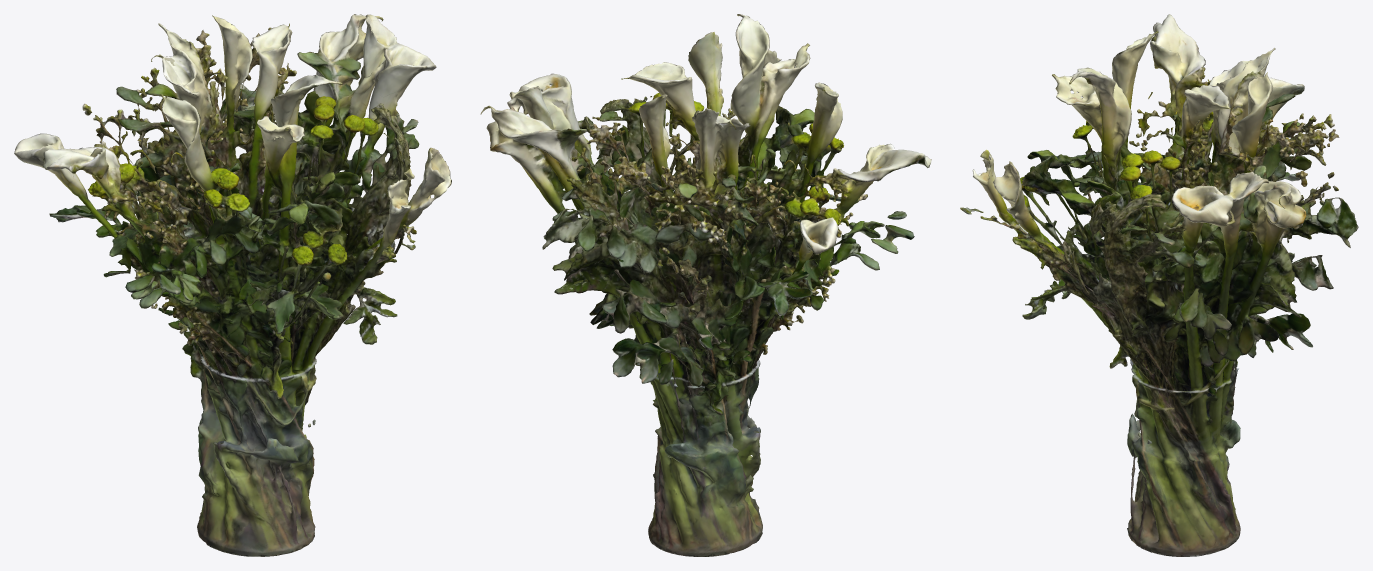
3 renders of one model, left to right at view 1: azimuth 30°, elevation 25°; view 2: azimuth 150°, elevation 25°; view 3: azimuth 270°, elevation 25°, orthographic. The views are drawn at different scales.
Parts seen in each view (by area): view 1: mmGroup0; view 2: mmGroup0; view 3: mmGroup0.
Boxes of the visible parts, <box> form: mmGroup0: <box>14,14,451,556</box>; mmGroup0: <box>480,14,931,556</box>; mmGroup0: <box>960,14,1358,556</box>.
Bounding box in the file's own units: 1.02 × 1.19 × 0.9157.
